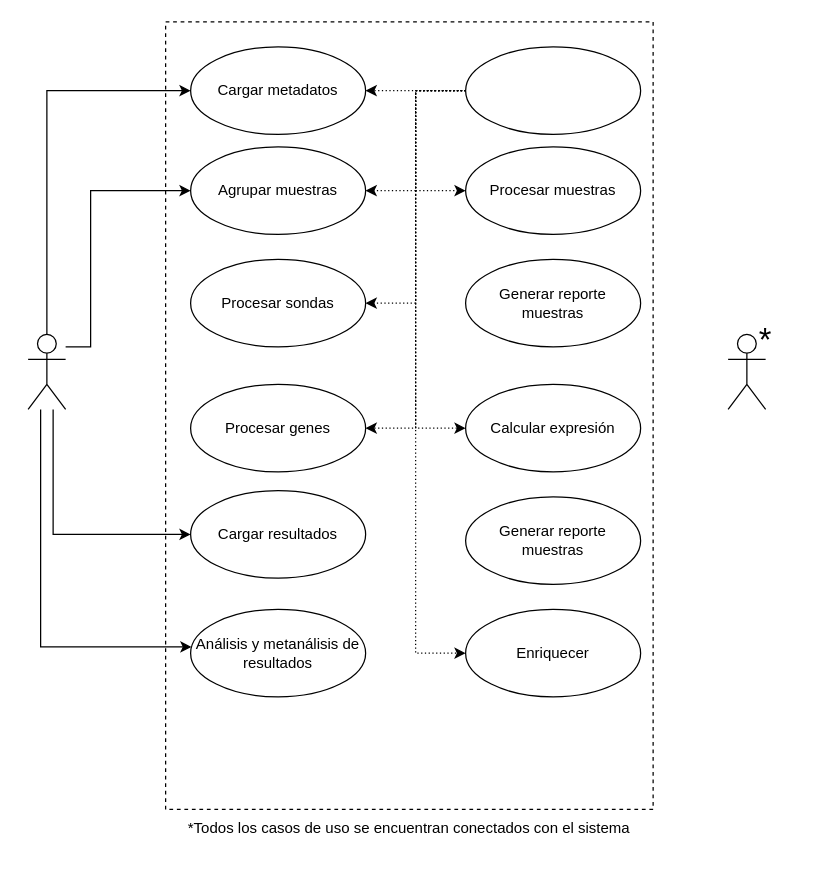
The diagram is 825 pixels wide and 869 high, and some of its shapes have lost their labels. Each missing label, with the box of its shape:
Avisar (loguear): (464, 46, 641, 134)
Sistema: (727, 333, 766, 409)
Usuario: (27, 333, 66, 409)
